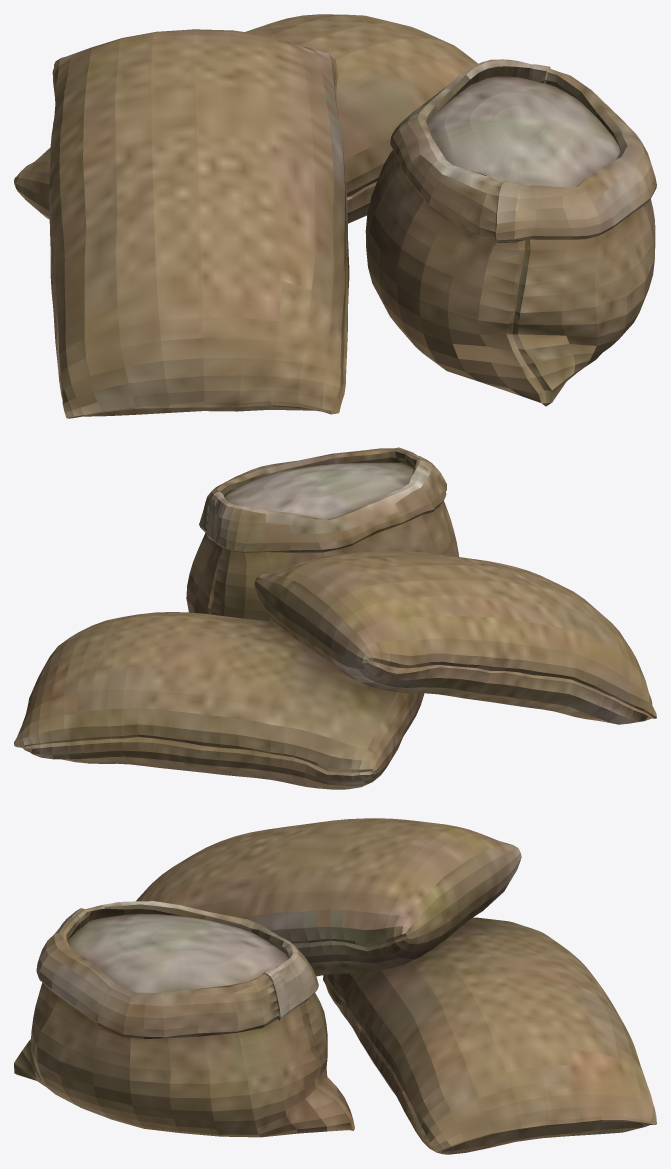
Rendered from bag.fbx.
The picture shows the model from 3 angles, top to bottom: view 1: azimuth 30°, elevation 25°; view 2: azimuth 150°, elevation 25°; view 3: azimuth 270°, elevation 25°; orthographic projection. The views are drawn at different scales.
Parts seen in each view (by area): view 1: obag_low1, obag_low1.001; view 2: obag_low1, obag_low1.001; view 3: obag_low1, obag_low1.001.
Part boxes in pixels (x1,y1,x2,y2): obag_low1: (14,14,477,418); obag_low1.001: (365,59,656,406); obag_low1: (14,551,656,789); obag_low1.001: (186,447,458,622); obag_low1: (136,818,656,1154); obag_low1.001: (14,901,354,1137).
Bounding box in the file's own units: 126 × 43.99 × 134.
